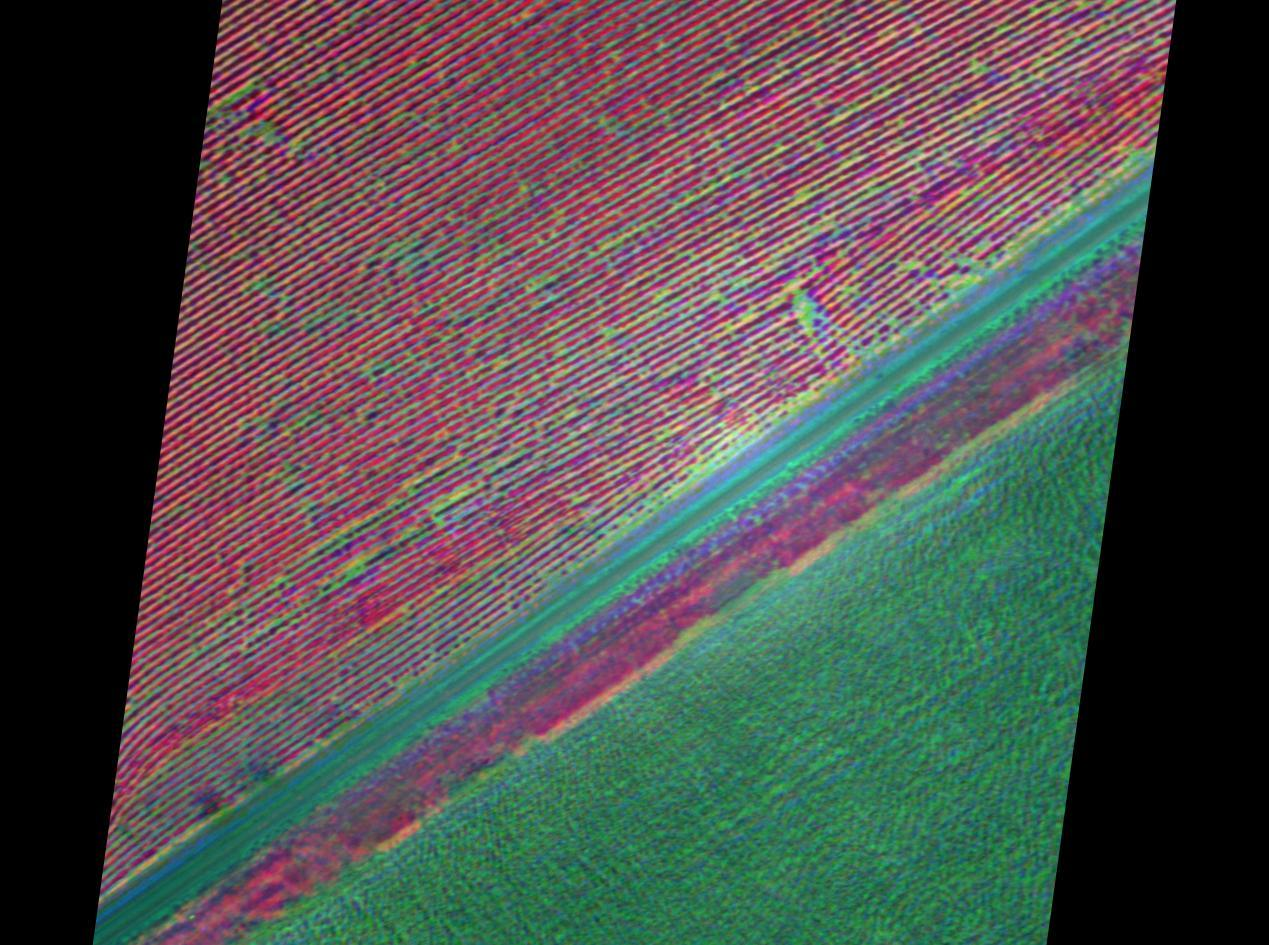dc: (802, 316, 808, 323), (799, 295, 804, 301), (265, 132, 270, 137), (352, 569, 357, 574), (658, 296, 662, 300), (606, 328, 610, 332)
